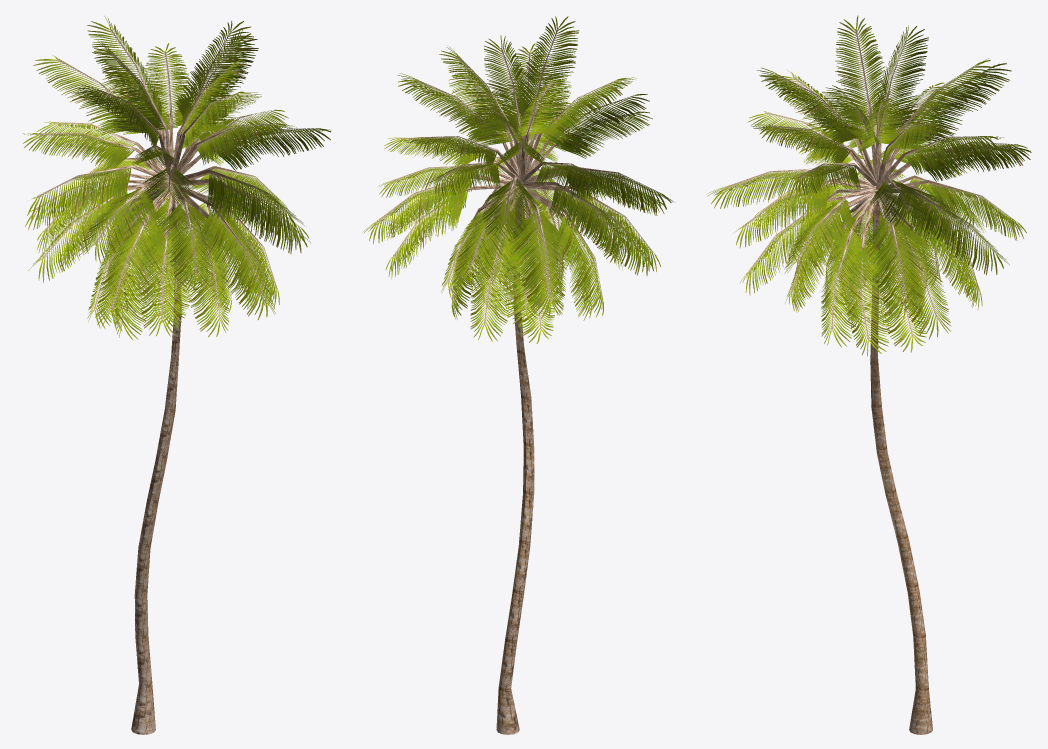
The model's file is palm.glb.
3 views of the same model, side by side, from view 1: azimuth 30°, elevation 25°; view 2: azimuth 150°, elevation 25°; view 3: azimuth 270°, elevation 25° (orthographic). The views are drawn at different scales.
Parts seen in each view (by area): view 1: Tree_1, Tree_0; view 2: Tree_1, Tree_0; view 3: Tree_1, Tree_0.
Part boxes in pixels (<box>): Tree_1: <box>22,16,330,339</box>; Tree_0: <box>77,70,261,734</box>; Tree_1: <box>363,16,673,343</box>; Tree_0: <box>416,71,620,734</box>; Tree_1: <box>707,15,1031,356</box>; Tree_0: <box>773,72,978,734</box>.
Bounding box in the file's own units: 66.62 × 156 × 67.58.
Materials: 2 (2 with a texture image).
